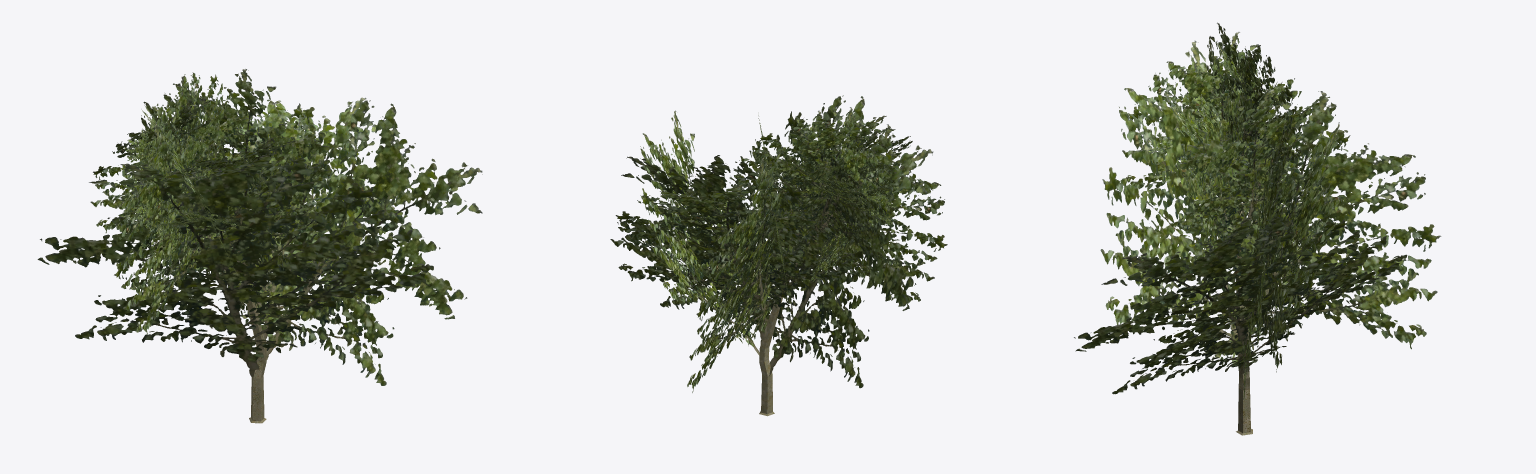
The model's file is elmtreegrn_hi.obj.
The picture shows the model from 3 angles, left to right: view 1: azimuth 30°, elevation 25°; view 2: azimuth 150°, elevation 25°; view 3: azimuth 270°, elevation 25°; orthographic projection. The views are drawn at different scales.
Visible parts, largest first — view 1: Elmtreegrn_hi; view 2: Elmtreegrn_hi; view 3: Elmtreegrn_hi.
Boxes of the visible parts, x1=… form: Elmtreegrn_hi: x1=37, y1=69, x2=482, y2=423; Elmtreegrn_hi: x1=610, y1=95, x2=947, y2=416; Elmtreegrn_hi: x1=1074, y1=22, x2=1441, y2=435.
Size of the model in its own units: 29.28 by 24.21 by 28.19.
Materials: 2 (2 with a texture image).
